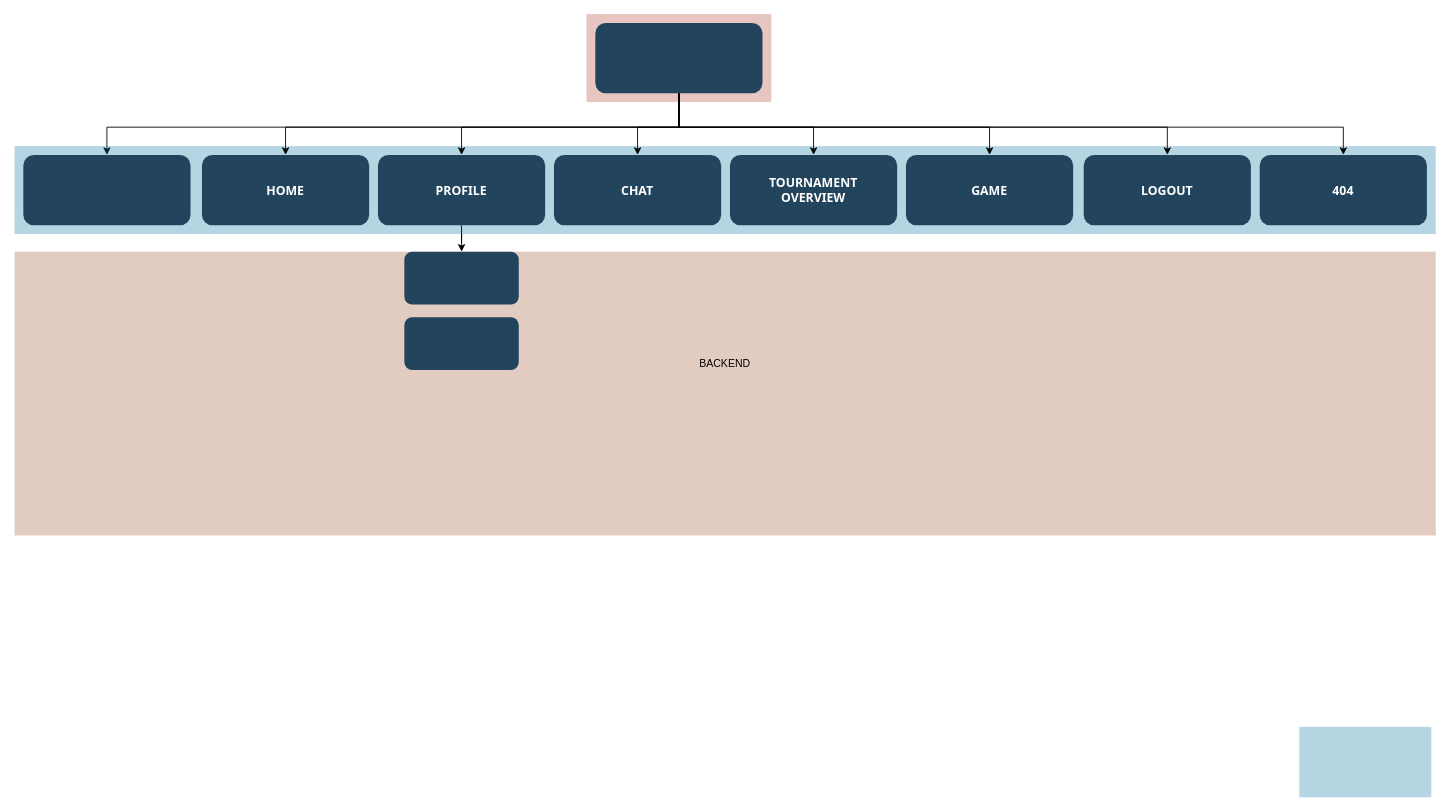
Some shapes in this 1450 by 811 pixel diagram are drawn without their labels. Each missing label, with the centre of its shape:
AUTH: the point at 106,189
friend list: the point at 461,277
profile pic: the point at 461,343
Transcendence: the point at 678,57
